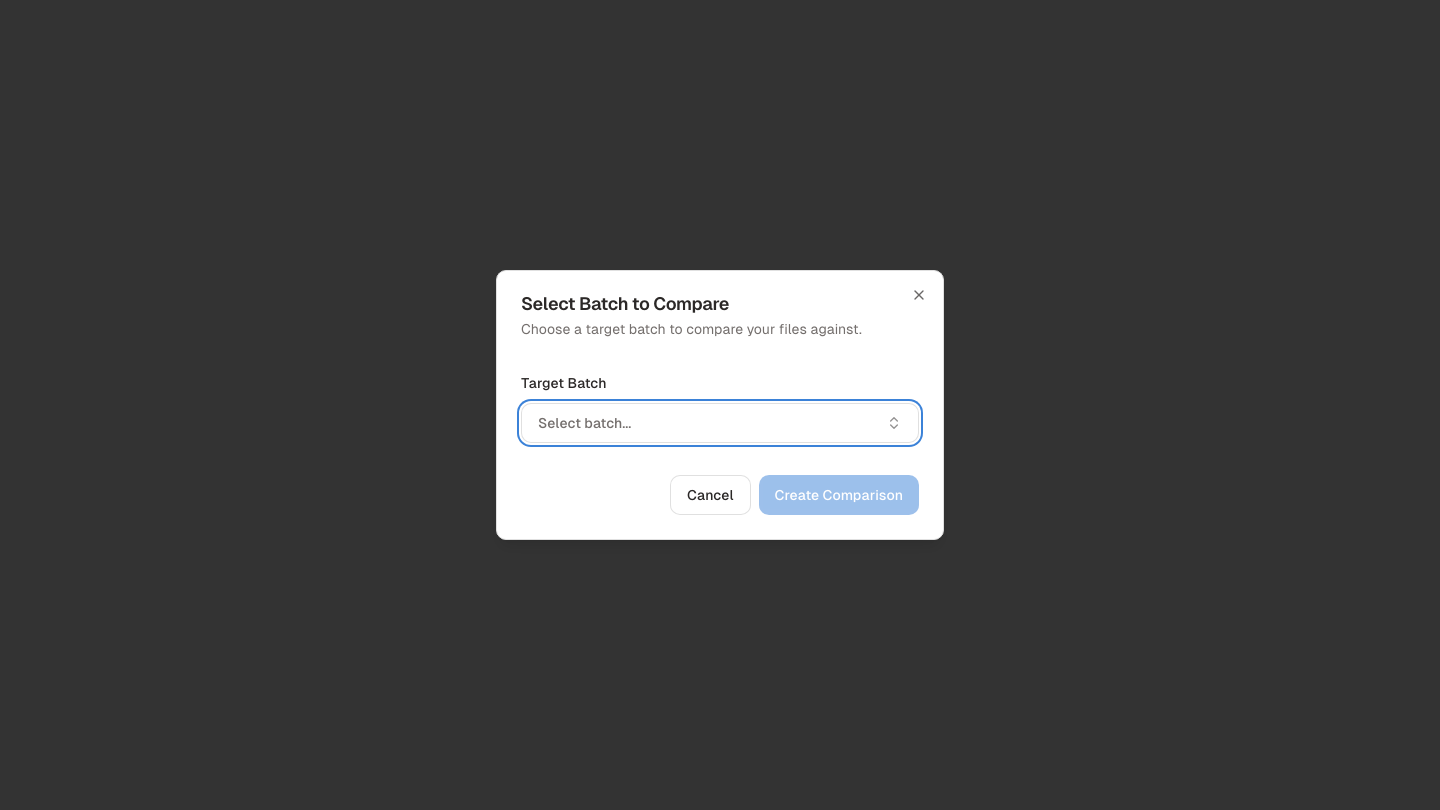
CompareFilesModal › renders batch status pills via the shared mapping without crashing
Open the target batch combobox — each option renders a status Badge.
Click the dropdown at [585, 423], box [521,403,919,443]
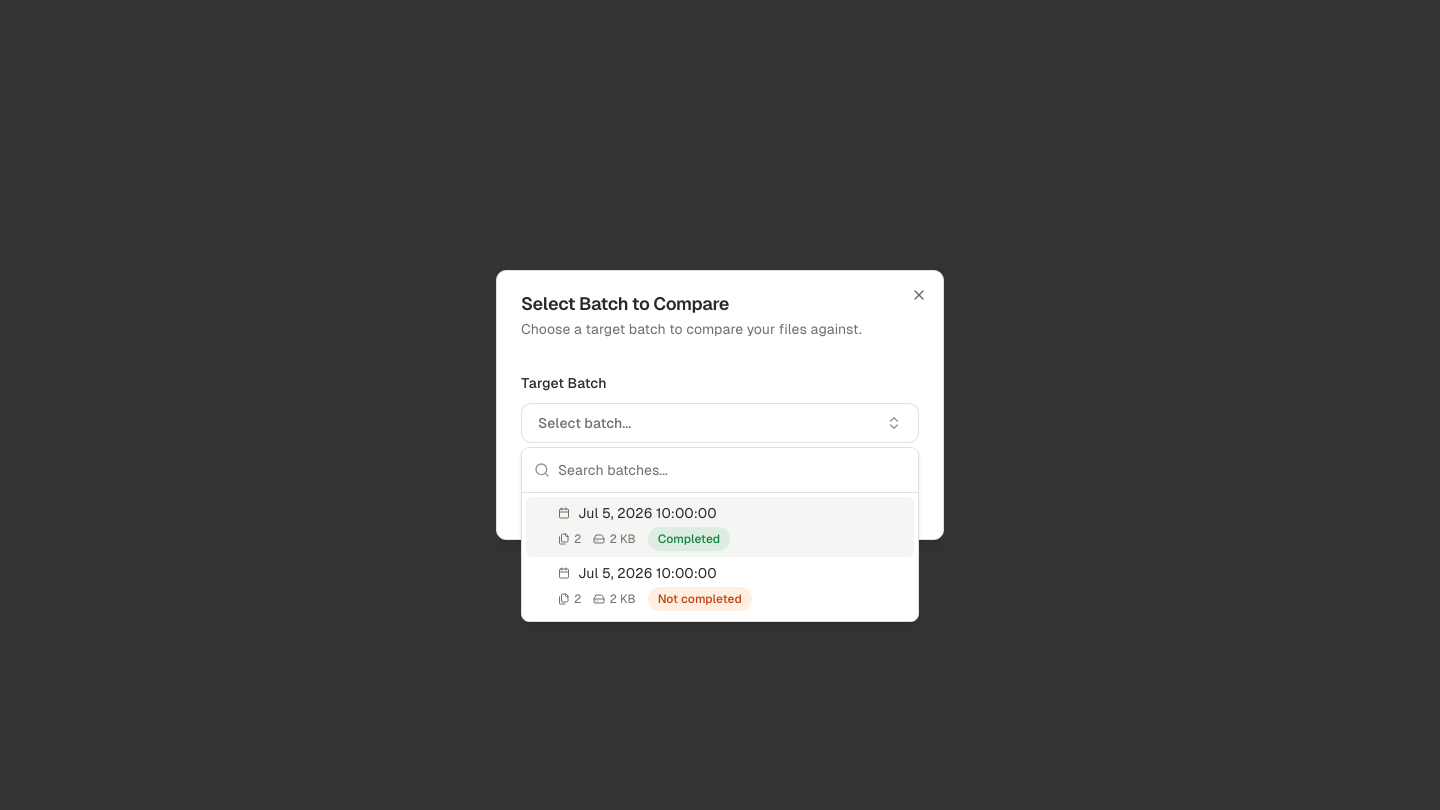
Result: the text "Completed" is shown at [648,527,730,551]
Result: the text "Not completed" is shown at [648,587,752,611]
